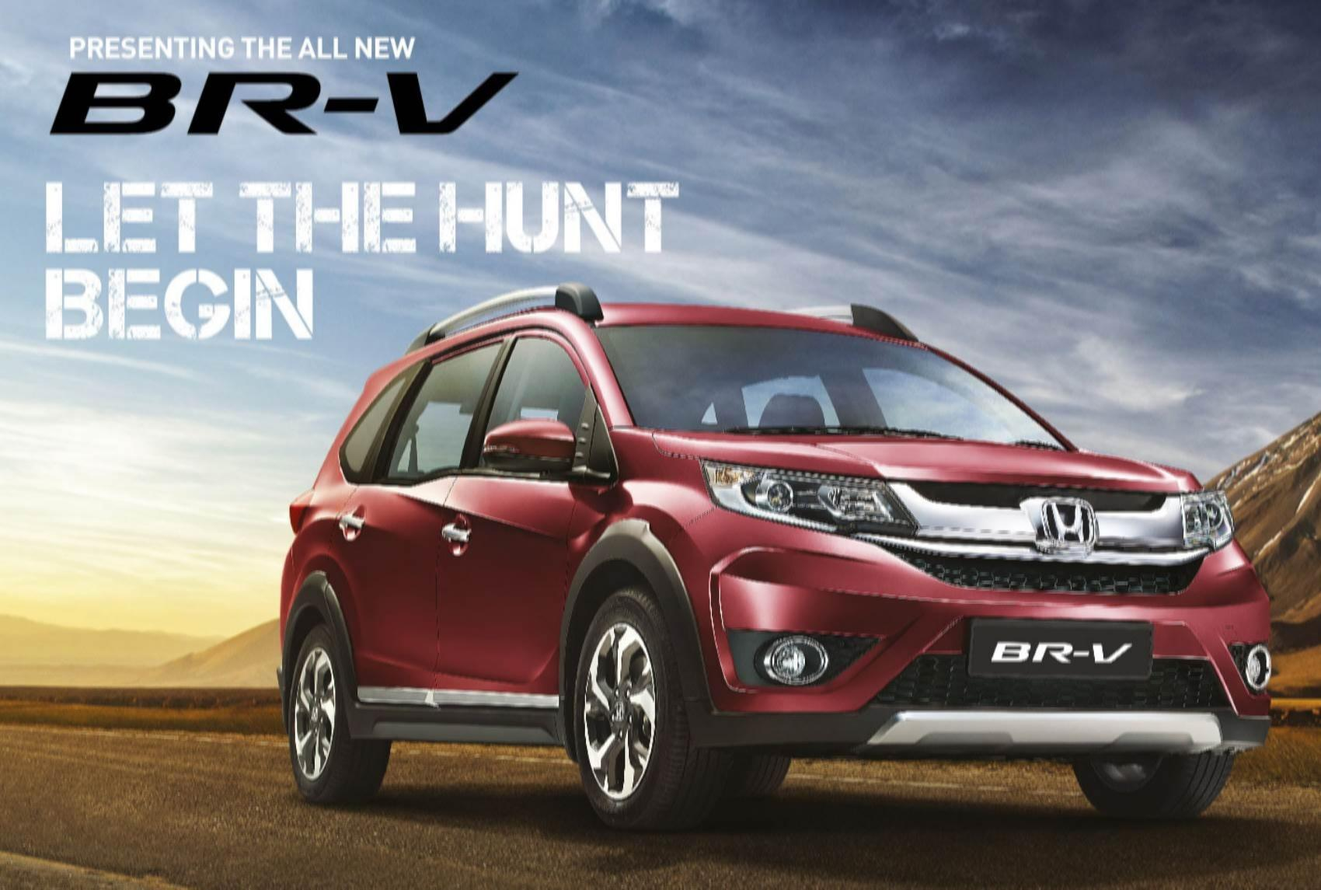Car hood: (647, 425, 1208, 497)
Driver-s door - -F-R-: (442, 305, 602, 715)
Fender - -F-R-: (561, 413, 720, 679)
Fender - -R-R-: (291, 450, 362, 617)
Front bumper: (661, 522, 1285, 772)
Headlight - -L-: (1170, 479, 1240, 564)
Headlight - -R-: (695, 448, 925, 545)
Passenger-s door - -R-R-: (320, 335, 483, 712)
Rear bumper: (266, 539, 304, 725)
Rear light - -R-: (283, 486, 321, 537)
Side bumper - -R-: (339, 677, 575, 754)
Side mirror - -R-: (476, 413, 581, 482)
